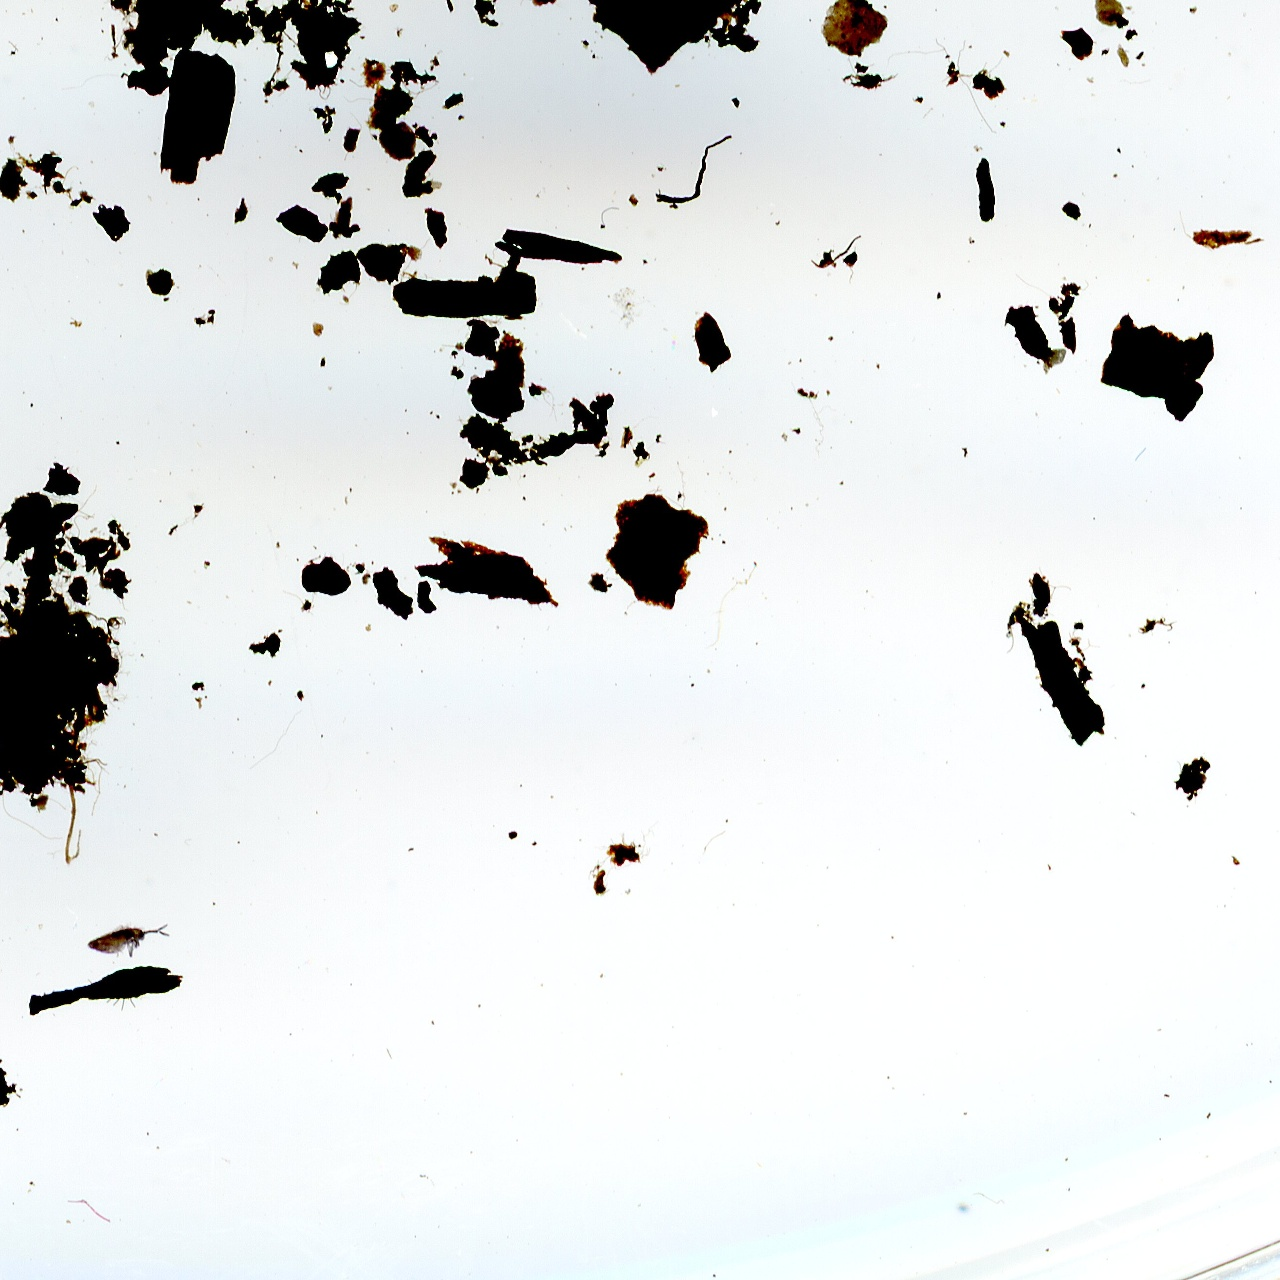arthropod: (81, 920, 172, 960)
